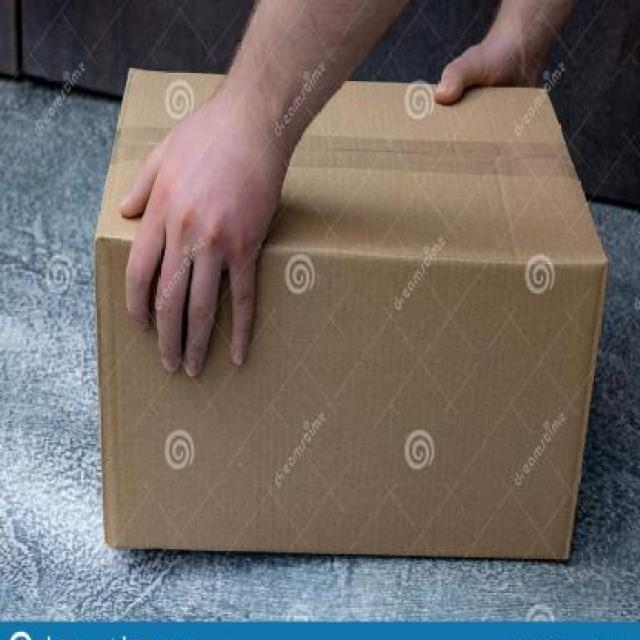box: (90, 33, 612, 586)
